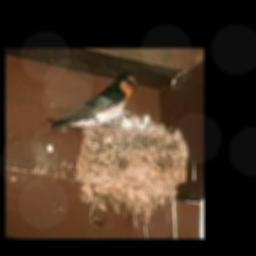Swallow: (48, 74, 137, 129)
